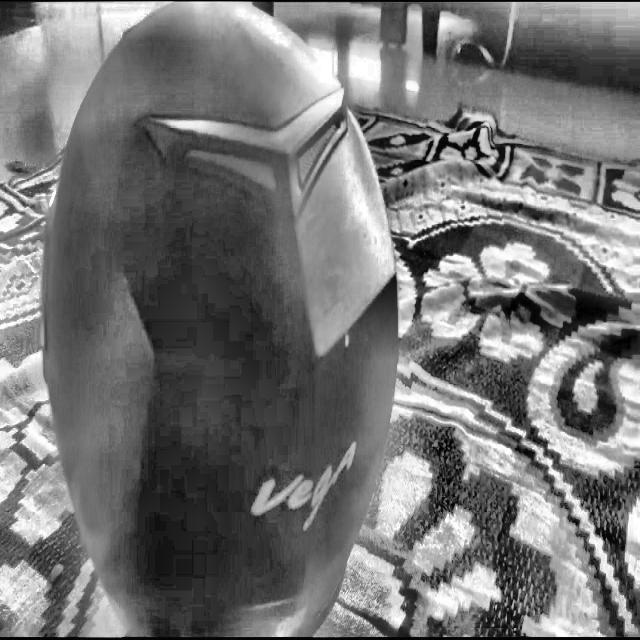Helmet: (39, 0, 400, 640)
